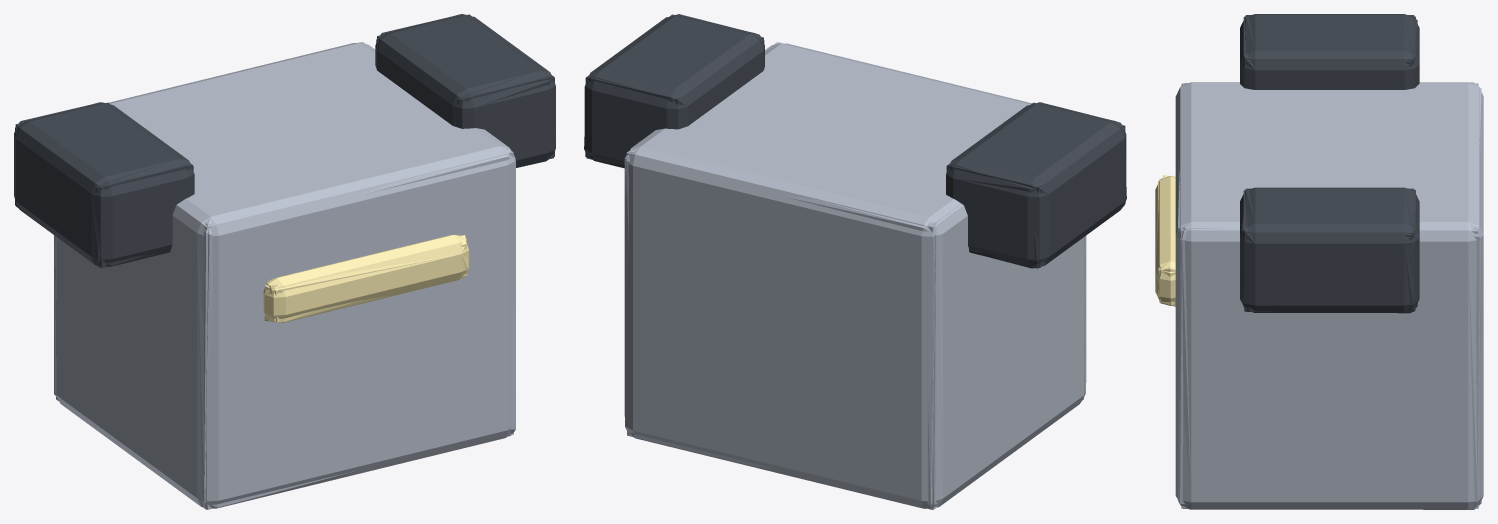
Rendered from SM_Juggernaut.fbx.
3 views of the same model, side by side, from view 1: azimuth 30°, elevation 25°; view 2: azimuth 150°, elevation 25°; view 3: azimuth 270°, elevation 25° (orthographic).
Visible parts, largest first — view 1: SM_Juggernaut, LOD1_SM_Juggernaut, LOD2_SM_Juggernaut; view 2: SM_Juggernaut, LOD1_SM_Juggernaut, LOD2_SM_Juggernaut; view 3: SM_Juggernaut, LOD1_SM_Juggernaut, LOD2_SM_Juggernaut.
Boxes of the visible parts, x1,y1,x2,y2 form: SM_Juggernaut: (14, 15, 555, 508); LOD1_SM_Juggernaut: (15, 14, 555, 508); LOD2_SM_Juggernaut: (15, 14, 554, 509); SM_Juggernaut: (584, 15, 1126, 508); LOD1_SM_Juggernaut: (584, 16, 1126, 507); LOD2_SM_Juggernaut: (585, 14, 1125, 509); SM_Juggernaut: (1155, 14, 1483, 509); LOD1_SM_Juggernaut: (1155, 15, 1481, 508); LOD2_SM_Juggernaut: (1158, 16, 1481, 509).
Bounding box in the file's own units: 0.4715 × 0.3168 × 0.2944.
